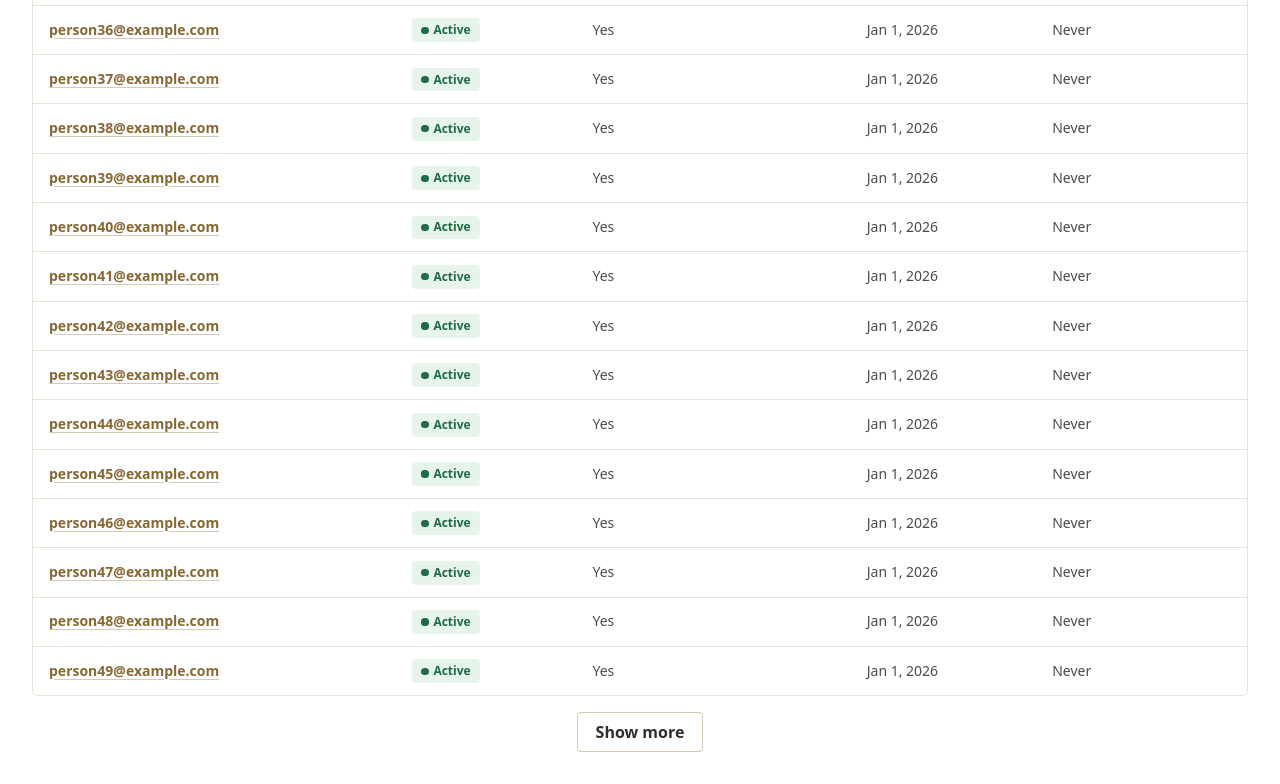
Scenario: users › searches through the API and pages by the last account seen
(page scrolled)
Click the button "Show more".
click(640, 732)  # box x1=577 y1=712 x2=703 y2=752
(page scrolled)
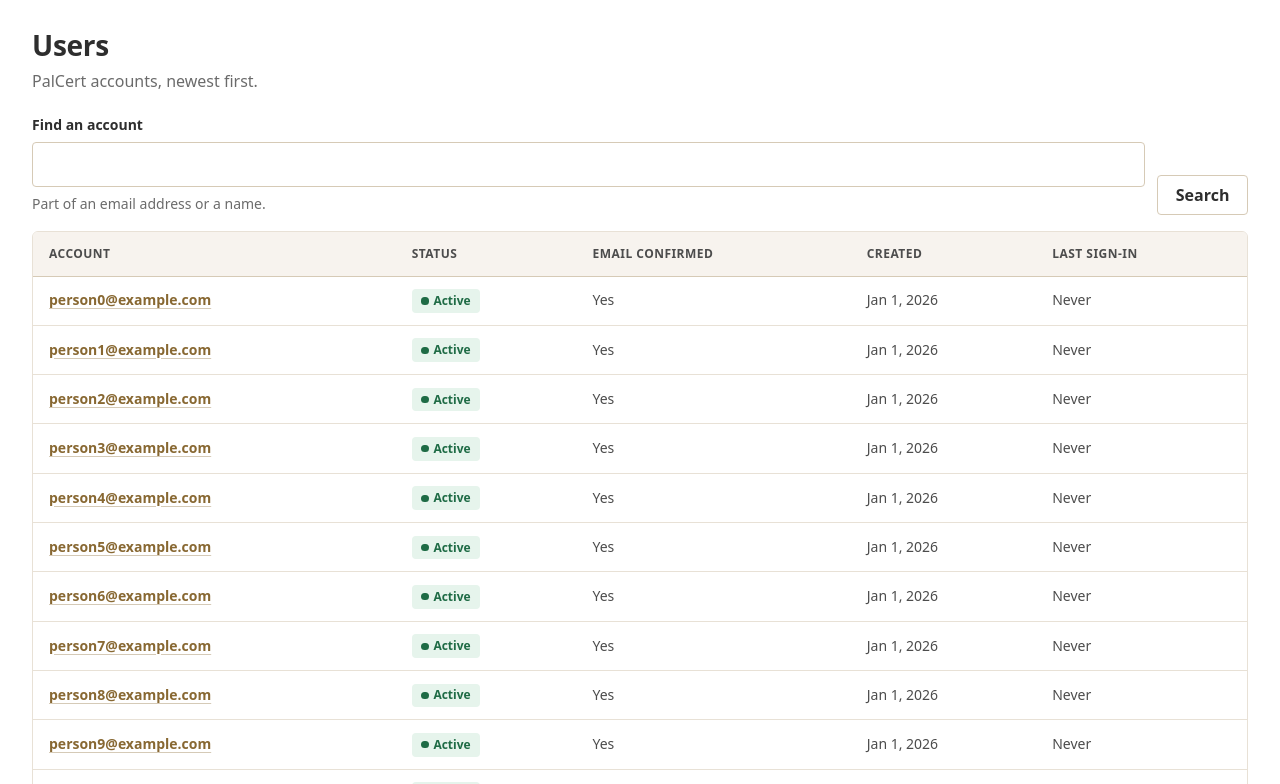
Type " layla " into the search field labelled "Find an account".
click(589, 165); type(" layla ")  # box x1=32 y1=142 x2=1145 y2=187
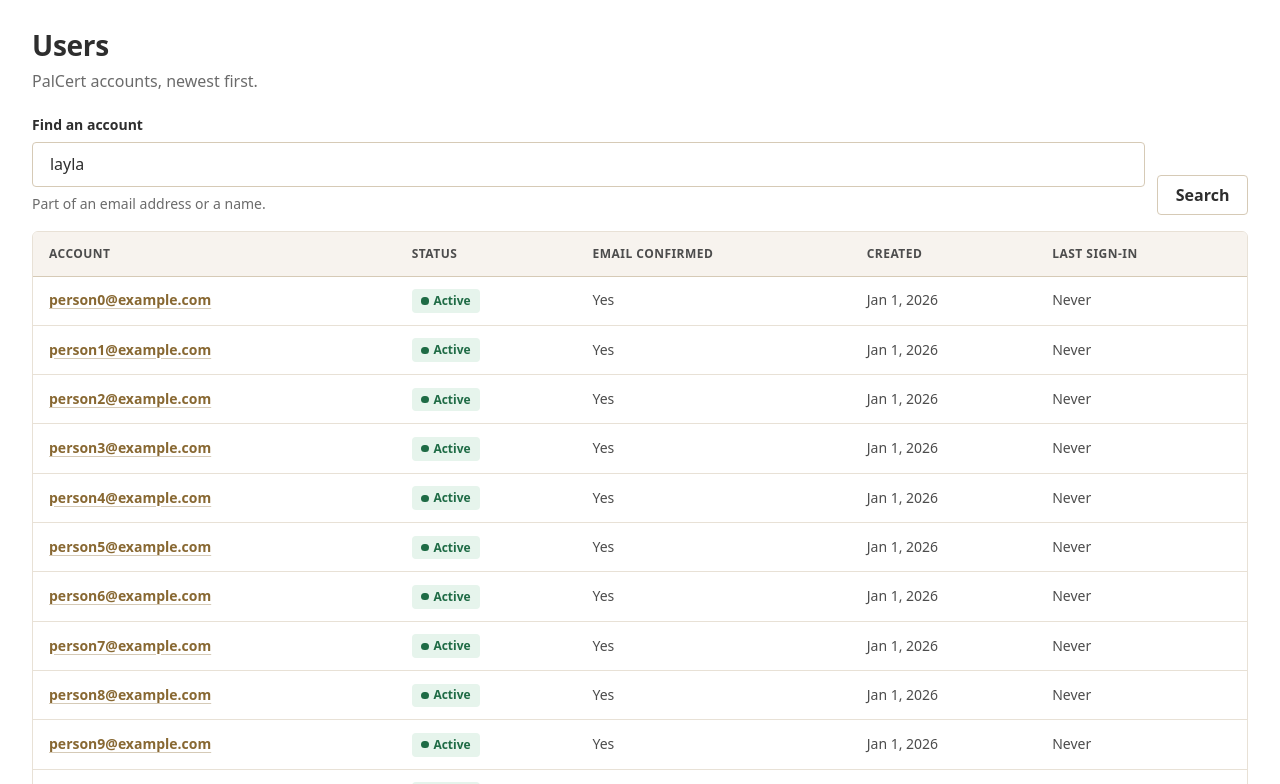
Click the button "Search".
click(1203, 195)  # box x1=1157 y1=175 x2=1248 y2=215
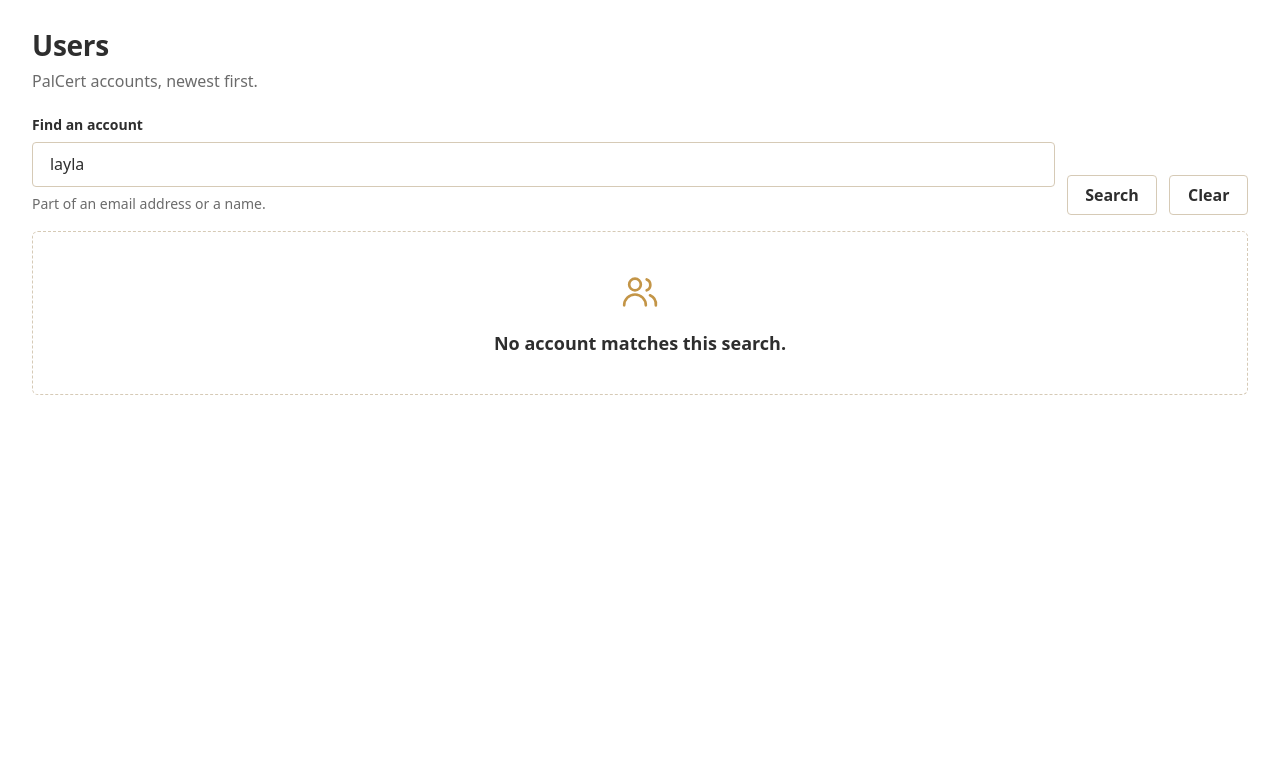
Now the heading "No account matches this search." is shown, box x1=494 y1=332 x2=786 y2=354
